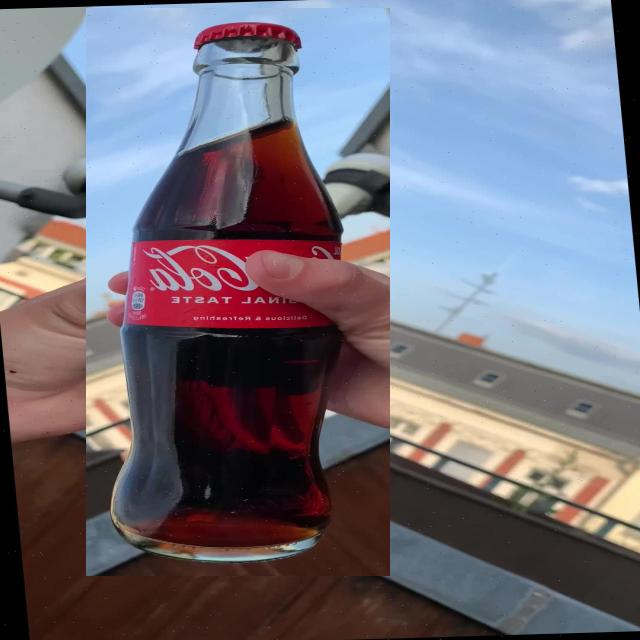coca-cola: (86, 8, 390, 576)
